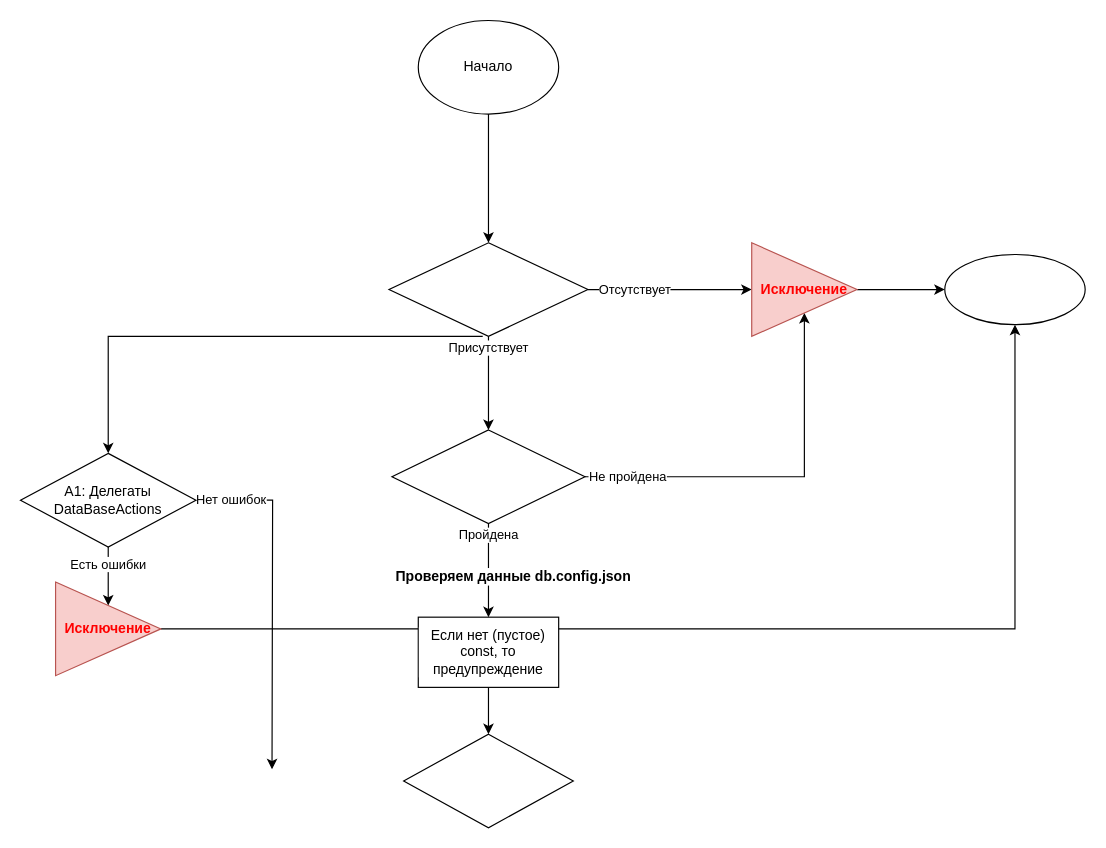
This 1106x848 diagram has some shape labels left out. The box of each missing label's shape, as (x1, y1, x2, y2) in pixels:
А2: файл db.confi.json: (388, 242, 588, 336)
А3: Валидация: (391, 429, 585, 524)
Конец: (944, 253, 1085, 325)
